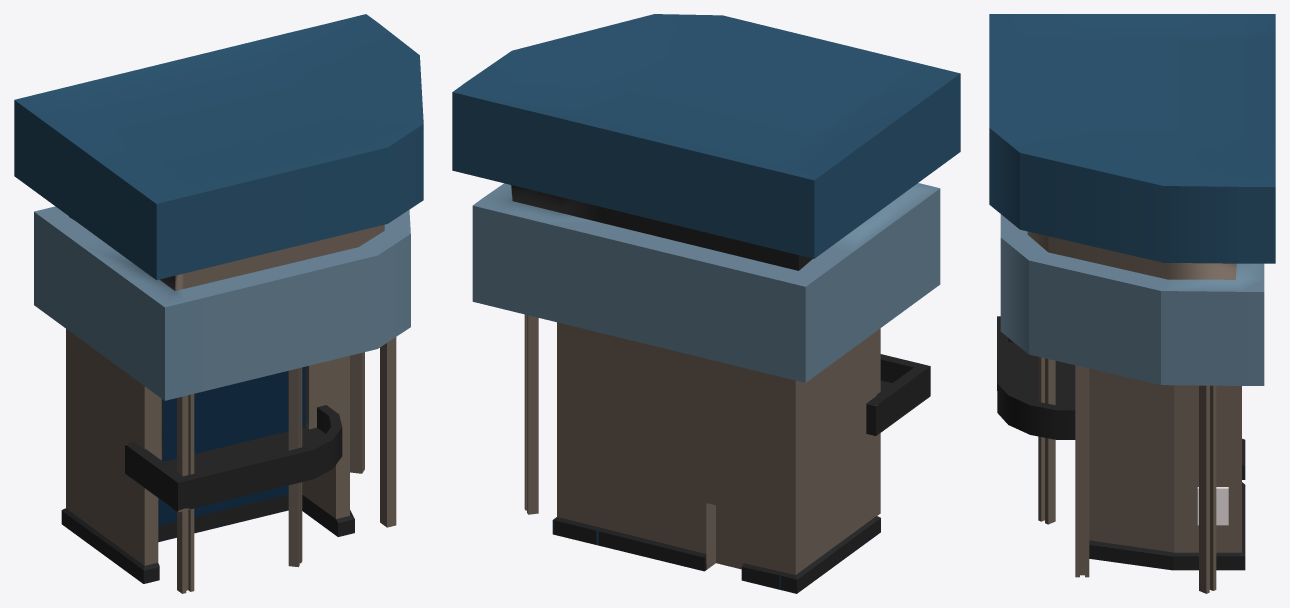
File: Building_store.fbx
3 views of the same model, side by side, from view 1: azimuth 30°, elevation 25°; view 2: azimuth 150°, elevation 25°; view 3: azimuth 270°, elevation 25° (orthographic). The views are drawn at different scales.
Visible parts, largest first — view 1: Building_Store; view 2: Building_Store; view 3: Building_Store.
Part boxes in pixels (x1,y1,x2,y2): Building_Store: (14,14,423,593); Building_Store: (452,14,960,593); Building_Store: (989,14,1275,593).
Bounding box in the file's own units: 605 × 693 × 424.
1 material, 1 textured.
